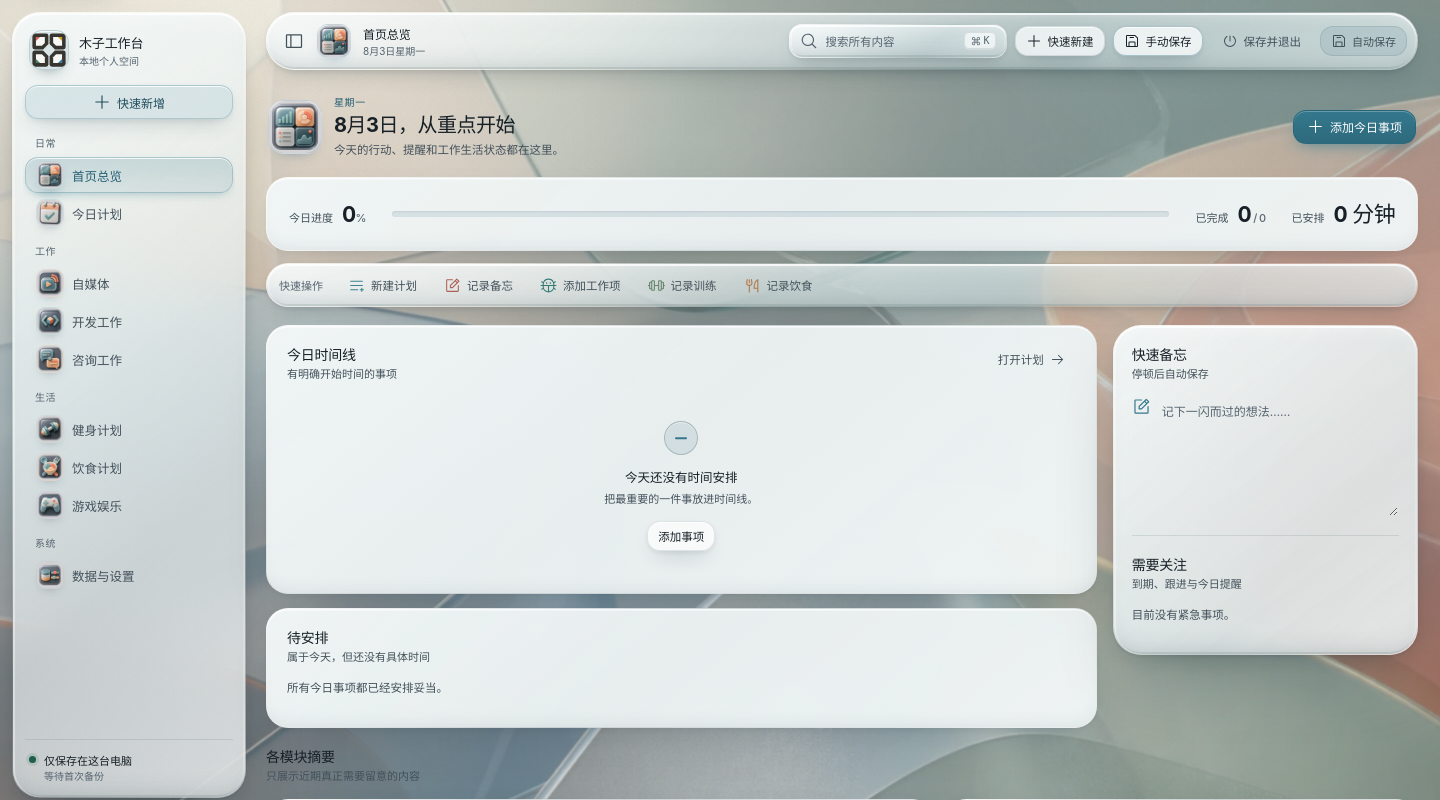
Test: application shell › saves pending data before requesting a safe service exit
The width and height of the screenshot is (1440, 800).
Click the button "保存并退出": [1261, 41] box [1210,26,1312,56]
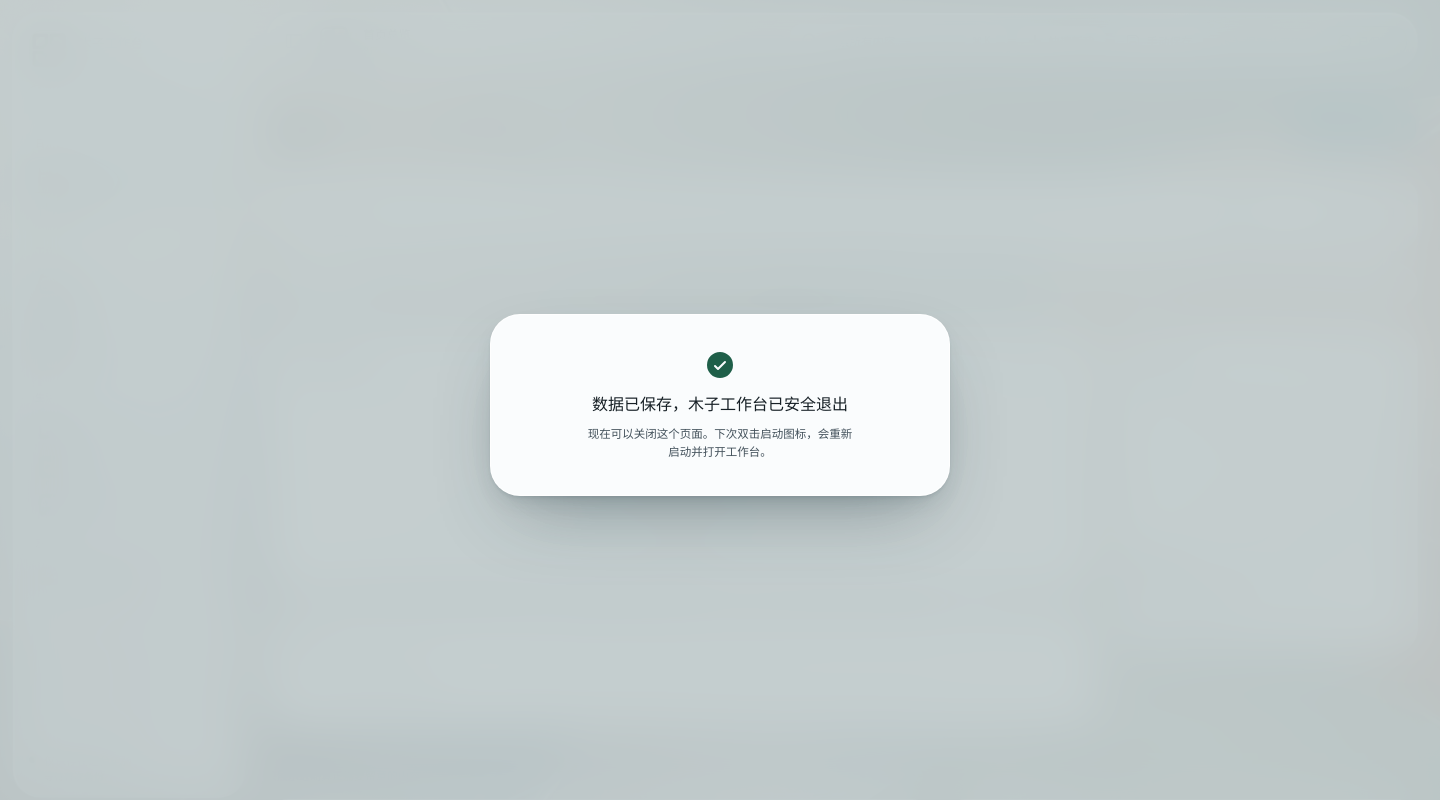
Expected: the text "数据已保存，木子工作台已安全退出" is shown, [592,391,848,415]
